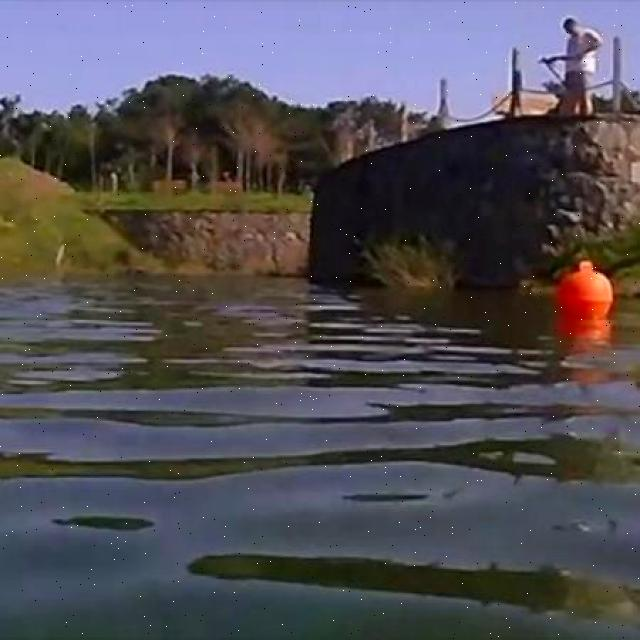buoy: (560, 261, 610, 321)
